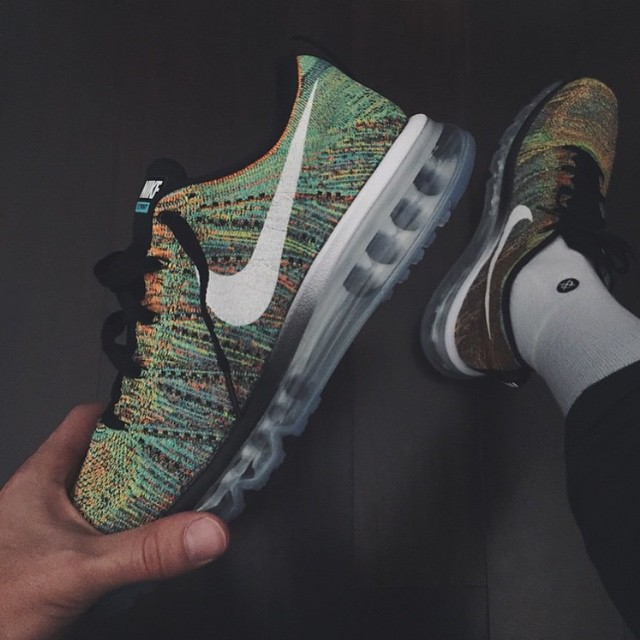sneaker: (410, 53, 640, 401)
